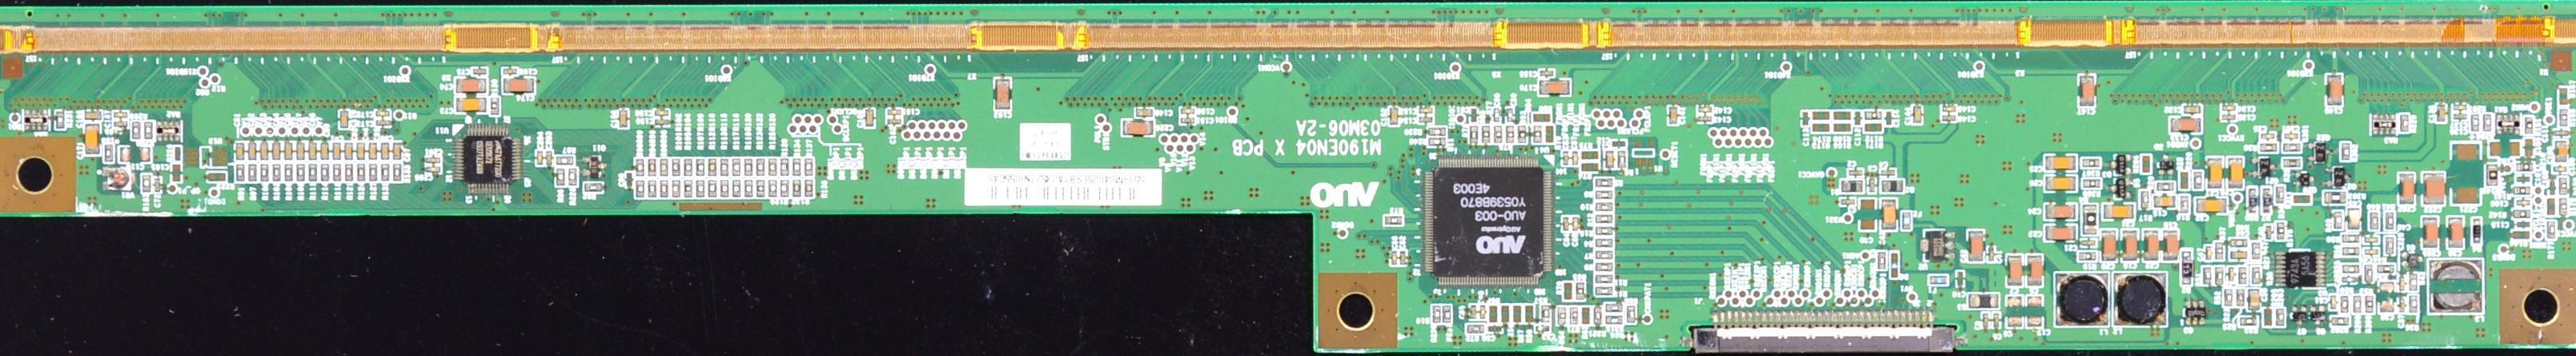Capacitor: (2451, 142, 2480, 204), (454, 76, 489, 97), (993, 78, 1012, 113), (2423, 172, 2445, 205), (2044, 174, 2078, 194), (2078, 73, 2096, 109), (454, 98, 489, 115), (1121, 119, 1156, 138), (117, 146, 152, 164), (2043, 224, 2079, 242), (501, 77, 536, 95), (1537, 78, 1572, 96), (2169, 116, 2203, 134), (83, 123, 102, 158), (2006, 254, 2024, 288), (2207, 157, 2224, 190), (1966, 230, 1984, 263), (2026, 254, 2044, 287), (2325, 74, 2341, 108), (2043, 154, 2076, 171), (2044, 203, 2078, 220), (2101, 229, 2118, 263), (2399, 174, 2416, 205), (2227, 158, 2245, 190), (2422, 216, 2438, 248), (2197, 199, 2225, 214), (2448, 217, 2463, 250), (2122, 230, 2138, 262), (2103, 205, 2134, 220), (2145, 230, 2158, 261), (2164, 231, 2179, 262), (1882, 202, 1896, 231), (2346, 206, 2361, 232), (2554, 140, 2568, 164), (379, 141, 392, 162), (1667, 104, 1679, 126), (1386, 106, 1399, 127), (1911, 105, 1924, 126), (170, 163, 183, 183), (2247, 290, 2260, 311), (355, 140, 367, 162), (2436, 104, 2448, 125), (82, 110, 103, 121), (331, 141, 343, 162), (235, 141, 246, 162), (271, 141, 282, 162), (319, 141, 331, 162), (2154, 196, 2175, 207), (2080, 237, 2097, 249), (865, 109, 876, 128), (393, 141, 403, 161), (283, 141, 294, 161), (1604, 150, 1615, 170), (2385, 235, 2396, 257), (619, 108, 630, 129), (295, 141, 306, 162), (343, 141, 354, 162), (307, 141, 318, 162), (259, 142, 270, 162), (368, 142, 378, 162), (247, 141, 258, 162), (1466, 323, 1487, 334), (1538, 68, 1555, 78), (1135, 108, 1154, 118), (1505, 106, 1515, 125), (339, 110, 349, 129), (1417, 106, 1434, 114), (652, 109, 671, 118), (2452, 113, 2469, 122), (1696, 114, 1715, 125), (1418, 115, 1435, 125), (652, 118, 670, 127), (426, 165, 443, 174), (1880, 170, 1897, 178), (2363, 248, 2381, 257), (2229, 250, 2247, 261), (2220, 104, 2237, 113), (2221, 114, 2238, 123), (1940, 114, 1960, 123), (886, 116, 905, 125), (1179, 117, 1197, 126), (536, 148, 544, 167), (153, 177, 163, 194), (1940, 105, 1958, 114), (886, 108, 904, 116), (1469, 107, 1477, 124), (2551, 130, 2569, 138), (1561, 149, 1568, 167), (1570, 150, 1579, 169), (1561, 215, 1569, 234), (1570, 216, 1579, 235), (1399, 250, 1408, 267), (1390, 250, 1398, 268), (1956, 270, 1965, 289), (1697, 105, 1713, 114), (1179, 106, 1197, 115), (1493, 108, 1501, 125), (2552, 166, 2568, 174), (1848, 170, 1865, 178), (1840, 198, 1856, 207), (2363, 236, 2378, 245), (2453, 103, 2468, 111), (2516, 198, 2530, 206), (1479, 305, 1487, 319), (502, 67, 517, 75), (546, 150, 552, 168), (625, 171, 632, 189), (1988, 246, 1995, 264), (2205, 244, 2211, 262), (2399, 277, 2405, 294), (2330, 294, 2337, 310), (2398, 298, 2405, 314), (376, 120, 391, 126), (425, 157, 441, 164), (1470, 304, 1477, 318), (375, 110, 390, 116)
IC: (1423, 154, 1554, 285), (451, 125, 524, 195), (2275, 251, 2329, 290), (1924, 229, 1952, 263), (2370, 114, 2397, 137), (2497, 114, 2520, 134)
Resistor: (2248, 186, 2259, 216), (2486, 164, 2499, 187), (140, 173, 152, 195), (2324, 190, 2348, 203), (1382, 214, 1405, 229), (207, 170, 228, 184), (1563, 281, 1575, 302), (2261, 186, 2272, 214), (1594, 177, 1616, 188), (2250, 242, 2261, 264), (2352, 294, 2364, 316), (142, 121, 156, 141), (102, 144, 114, 164), (730, 179, 742, 199), (804, 179, 816, 199), (2179, 194, 2191, 214), (2400, 112, 2412, 133), (130, 120, 141, 141), (2081, 158, 2102, 169), (634, 158, 645, 178), (731, 157, 742, 178), (768, 158, 779, 179), (694, 158, 704, 178), (755, 158, 766, 178), (259, 163, 271, 183), (554, 168, 566, 188), (2081, 179, 2103, 190), (2558, 176, 2569, 197), (584, 182, 604, 194), (2558, 197, 2569, 218), (1593, 214, 1615, 224), (2369, 210, 2380, 231), (1594, 226, 1615, 238), (1594, 238, 1615, 249), (1593, 250, 1615, 262), (1594, 261, 1615, 273), (2213, 266, 2224, 286), (2249, 266, 2261, 286), (2339, 294, 2350, 315), (2276, 307, 2285, 331), (705, 158, 718, 177), (803, 158, 816, 178), (490, 96, 501, 117), (1864, 110, 1884, 121), (2482, 113, 2494, 133), (1517, 125, 1528, 145), (671, 158, 682, 178), (743, 158, 754, 178), (271, 163, 283, 182), (235, 165, 247, 184), (791, 178, 802, 198), (766, 179, 777, 199), (743, 179, 755, 198), (779, 179, 790, 198), (647, 179, 658, 199), (683, 178, 695, 199), (635, 179, 645, 199), (1593, 201, 1614, 212), (2213, 241, 2225, 261), (2341, 246, 2361, 258), (2078, 250, 2097, 262), (1595, 274, 1615, 285), (1928, 274, 1949, 286), (1575, 282, 1585, 302), (2408, 294, 2420, 314), (2558, 108, 2568, 129), (2341, 142, 2351, 162), (1579, 150, 1600, 161), (1617, 150, 1627, 171), (554, 155, 575, 166), (1579, 162, 1600, 173), (780, 158, 791, 178), (247, 163, 258, 183), (672, 178, 681, 200), (659, 179, 669, 200), (720, 178, 730, 200), (2276, 185, 2285, 206), (2333, 210, 2343, 231), (1480, 126, 1491, 145), (707, 180, 718, 199), (2384, 213, 2396, 231), (2341, 234, 2360, 244), (1595, 286, 1614, 298), (1625, 305, 1637, 324), (55, 110, 66, 130), (2470, 114, 2480, 133), (1427, 126, 1447, 136), (1532, 126, 1543, 146), (720, 157, 729, 178), (647, 157, 657, 178), (2514, 162, 2534, 173), (792, 158, 802, 178), (332, 163, 342, 182), (284, 163, 294, 182), (321, 162, 330, 182), (296, 163, 305, 182), (2193, 170, 2204, 190), (2157, 182, 2177, 192), (756, 179, 766, 198), (2140, 190, 2149, 210), (1901, 211, 1911, 231), (2275, 222, 2285, 241), (2546, 221, 2557, 242), (2229, 238, 2249, 247), (2376, 264, 2395, 274), (2364, 264, 2373, 284), (2238, 267, 2247, 287), (2408, 273, 2418, 292), (2223, 289, 2233, 308), (2364, 294, 2374, 314), (1604, 304, 1623, 313), (1442, 304, 1453, 324), (1432, 305, 1442, 325), (1569, 307, 1579, 327), (1603, 314, 1623, 326), (2331, 317, 2350, 326), (380, 163, 391, 182), (1504, 126, 1515, 144), (1469, 126, 1479, 144), (1493, 126, 1503, 144), (1427, 138, 1446, 147), (2258, 142, 2277, 153), (659, 158, 668, 178), (368, 164, 378, 182), (392, 164, 402, 182), (696, 180, 706, 199), (1539, 305, 1550, 322), (2525, 114, 2534, 137), (568, 168, 577, 188), (1594, 190, 1615, 199), (1878, 250, 1887, 272), (2235, 290, 2246, 306), (112, 110, 129, 120), (2282, 158, 2302, 168), (684, 158, 693, 178), (356, 162, 364, 182), (308, 163, 318, 182), (2203, 266, 2211, 285), (2341, 274, 2357, 283), (1557, 306, 1566, 326), (2514, 186, 2531, 196), (2513, 210, 2531, 218), (2341, 264, 2359, 273), (1593, 306, 1602, 326), (112, 121, 129, 129), (2283, 144, 2301, 153), (344, 164, 352, 182)
Transistor: (589, 158, 600, 178)
